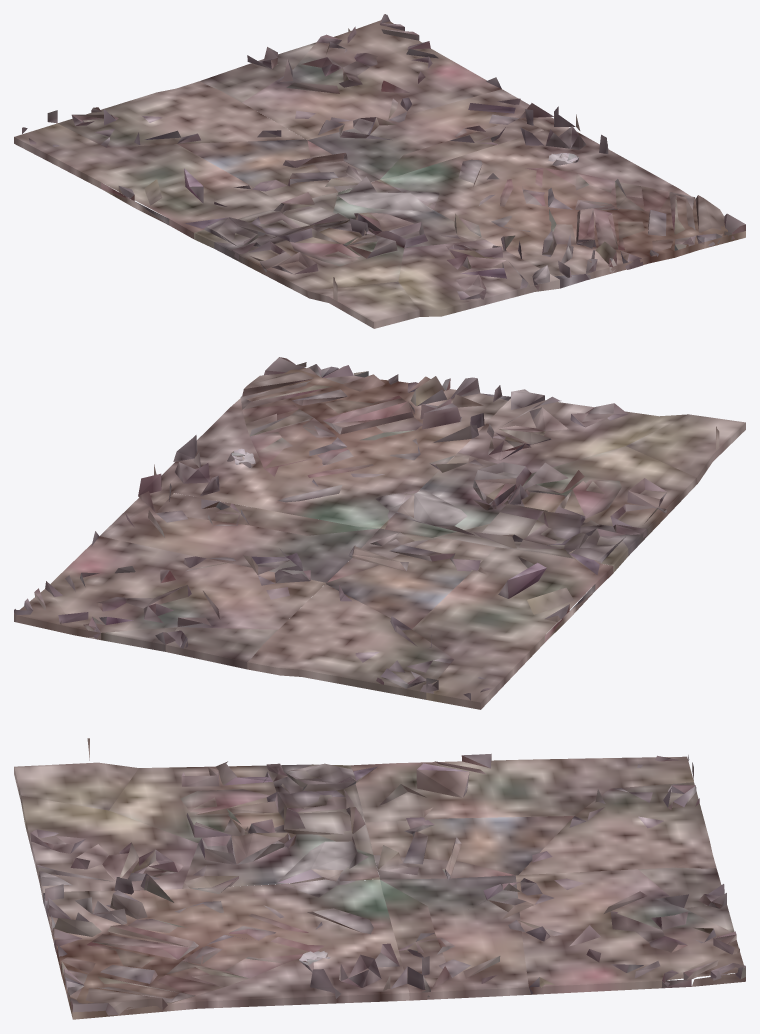
3 renders of one model, top to bottom at view 1: azimuth 30°, elevation 25°; view 2: azimuth 150°, elevation 25°; view 3: azimuth 270°, elevation 25°, orthographic. The views are drawn at different scales.
Visible parts, largest first — view 1: Mesh_0; view 2: Mesh_0; view 3: Mesh_0.
Part boxes in pixels (box(x1,y1,x2,y2)): Mesh_0: box(14, 14, 745, 328); Mesh_0: box(14, 357, 745, 709); Mesh_0: box(14, 738, 745, 1019).
Bounding box in the file's own units: 1066 × 120 × 1318.
Materials: 1 (1 with a texture image).
